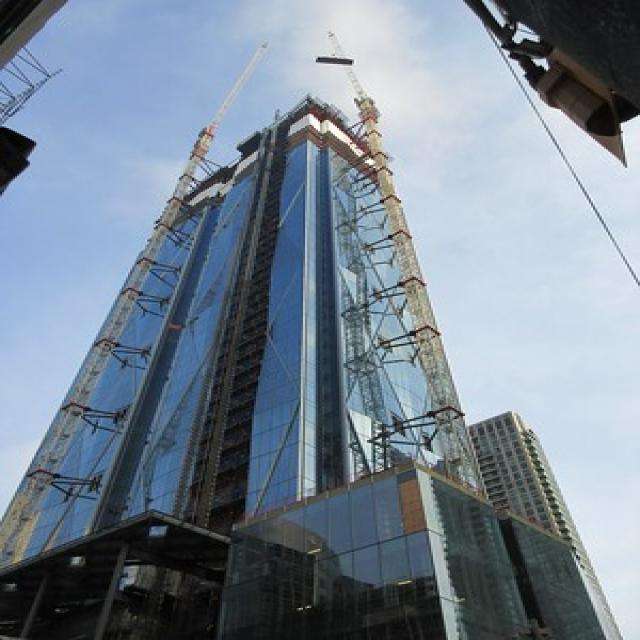Normal_building: (0, 91, 531, 635)
